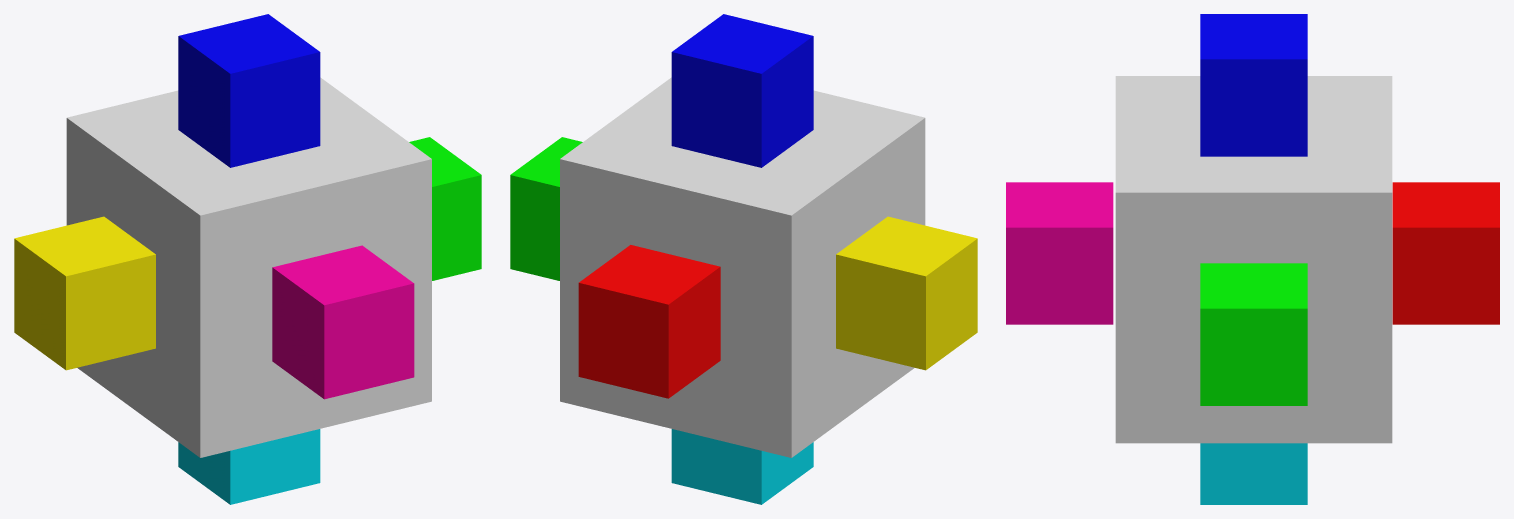
The model's file is TestCube2.glb.
3 views of the same model, side by side, from view 1: azimuth 30°, elevation 25°; view 2: azimuth 150°, elevation 25°; view 3: azimuth 270°, elevation 25° (orthographic). The views are drawn at different scales.
Parts seen in each view (by area): view 1: Cube, CubeUp, CubeRight.001, CubeFront.001, CubeUp.001, CubeFront; view 2: Cube, CubeRight, CubeUp, CubeFront.001, CubeUp.001, CubeFront; view 3: Cube, CubeFront, CubeRight, CubeRight.001, CubeUp, CubeUp.001.
Boxes of the visible parts, x1,y1,x2,y2 form: Cube: (66, 77, 431, 457); CubeUp: (178, 14, 320, 167); CubeRight.001: (272, 245, 414, 399); CubeFront.001: (14, 216, 155, 370); CubeUp.001: (178, 429, 320, 504); CubeFront: (409, 137, 481, 280); Cube: (560, 77, 925, 457); CubeRight: (578, 245, 720, 398); CubeUp: (671, 14, 813, 167); CubeFront.001: (836, 216, 977, 370); CubeUp.001: (671, 429, 813, 504); CubeFront: (510, 137, 582, 280); Cube: (1115, 76, 1392, 443); CubeFront: (1200, 263, 1307, 405); CubeRight: (1392, 182, 1499, 324); CubeRight.001: (1006, 182, 1113, 324); CubeUp: (1200, 14, 1307, 156); CubeUp.001: (1200, 443, 1307, 504).
Size of the model in its own units: 3.59 by 3.56 by 3.57.
